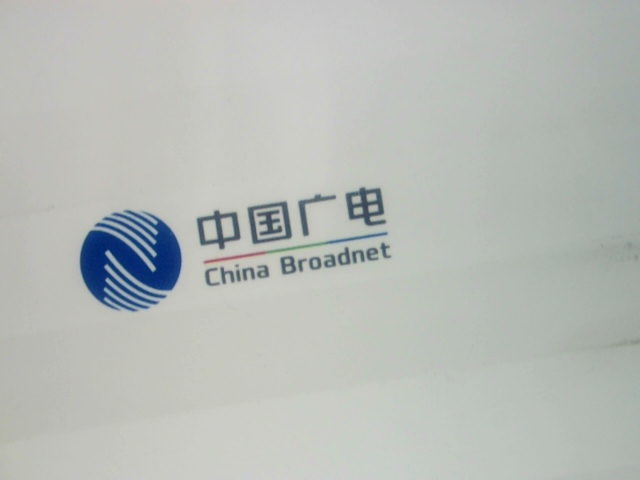AW_ChinaBroadNet: (69, 181, 396, 316)
